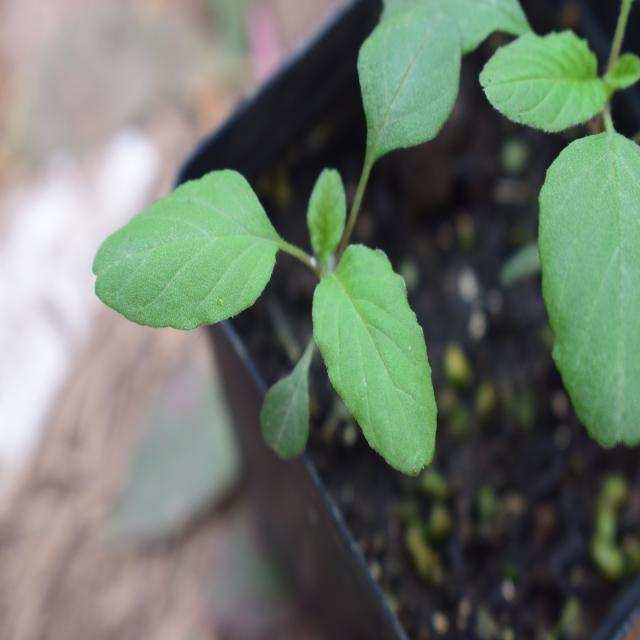pigweed: (130, 94, 457, 476)
